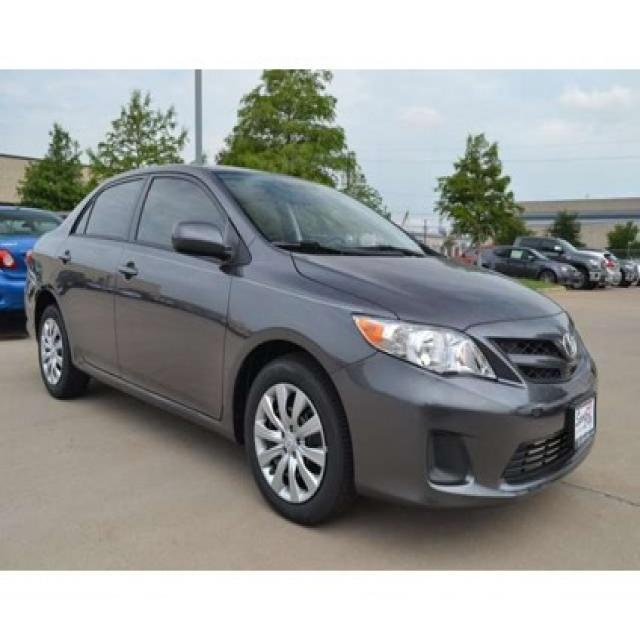Car: (9, 145, 628, 544), (1, 178, 97, 338), (504, 221, 618, 302), (468, 235, 592, 306), (559, 233, 640, 314)
